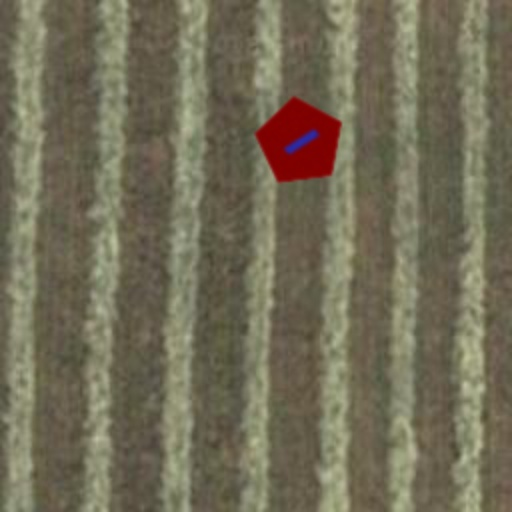pentagon: (232, 74, 368, 210)
